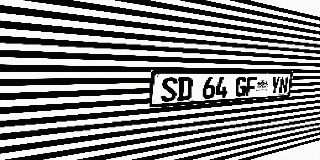plate: (149, 70, 293, 108)
